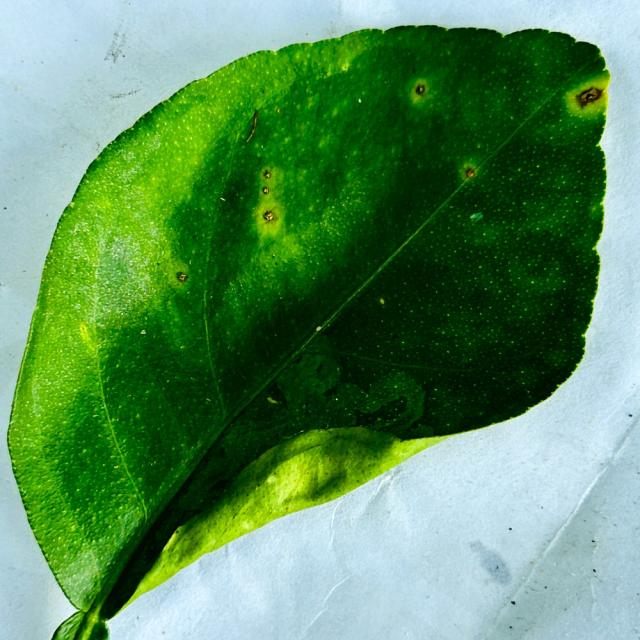Anthracnose: (248, 155, 322, 262), (565, 71, 610, 119), (404, 76, 440, 112), (255, 206, 284, 239), (167, 260, 193, 289), (458, 159, 481, 182), (589, 203, 600, 215)
Lemon: (6, 26, 612, 639)
